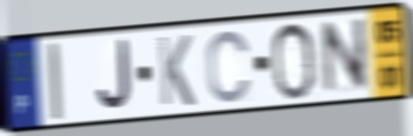C: (205, 27, 254, 106)
I: (44, 40, 65, 124)
J: (95, 37, 135, 115)
K: (155, 33, 197, 109)
N: (320, 15, 370, 99)
O: (269, 19, 317, 103)
